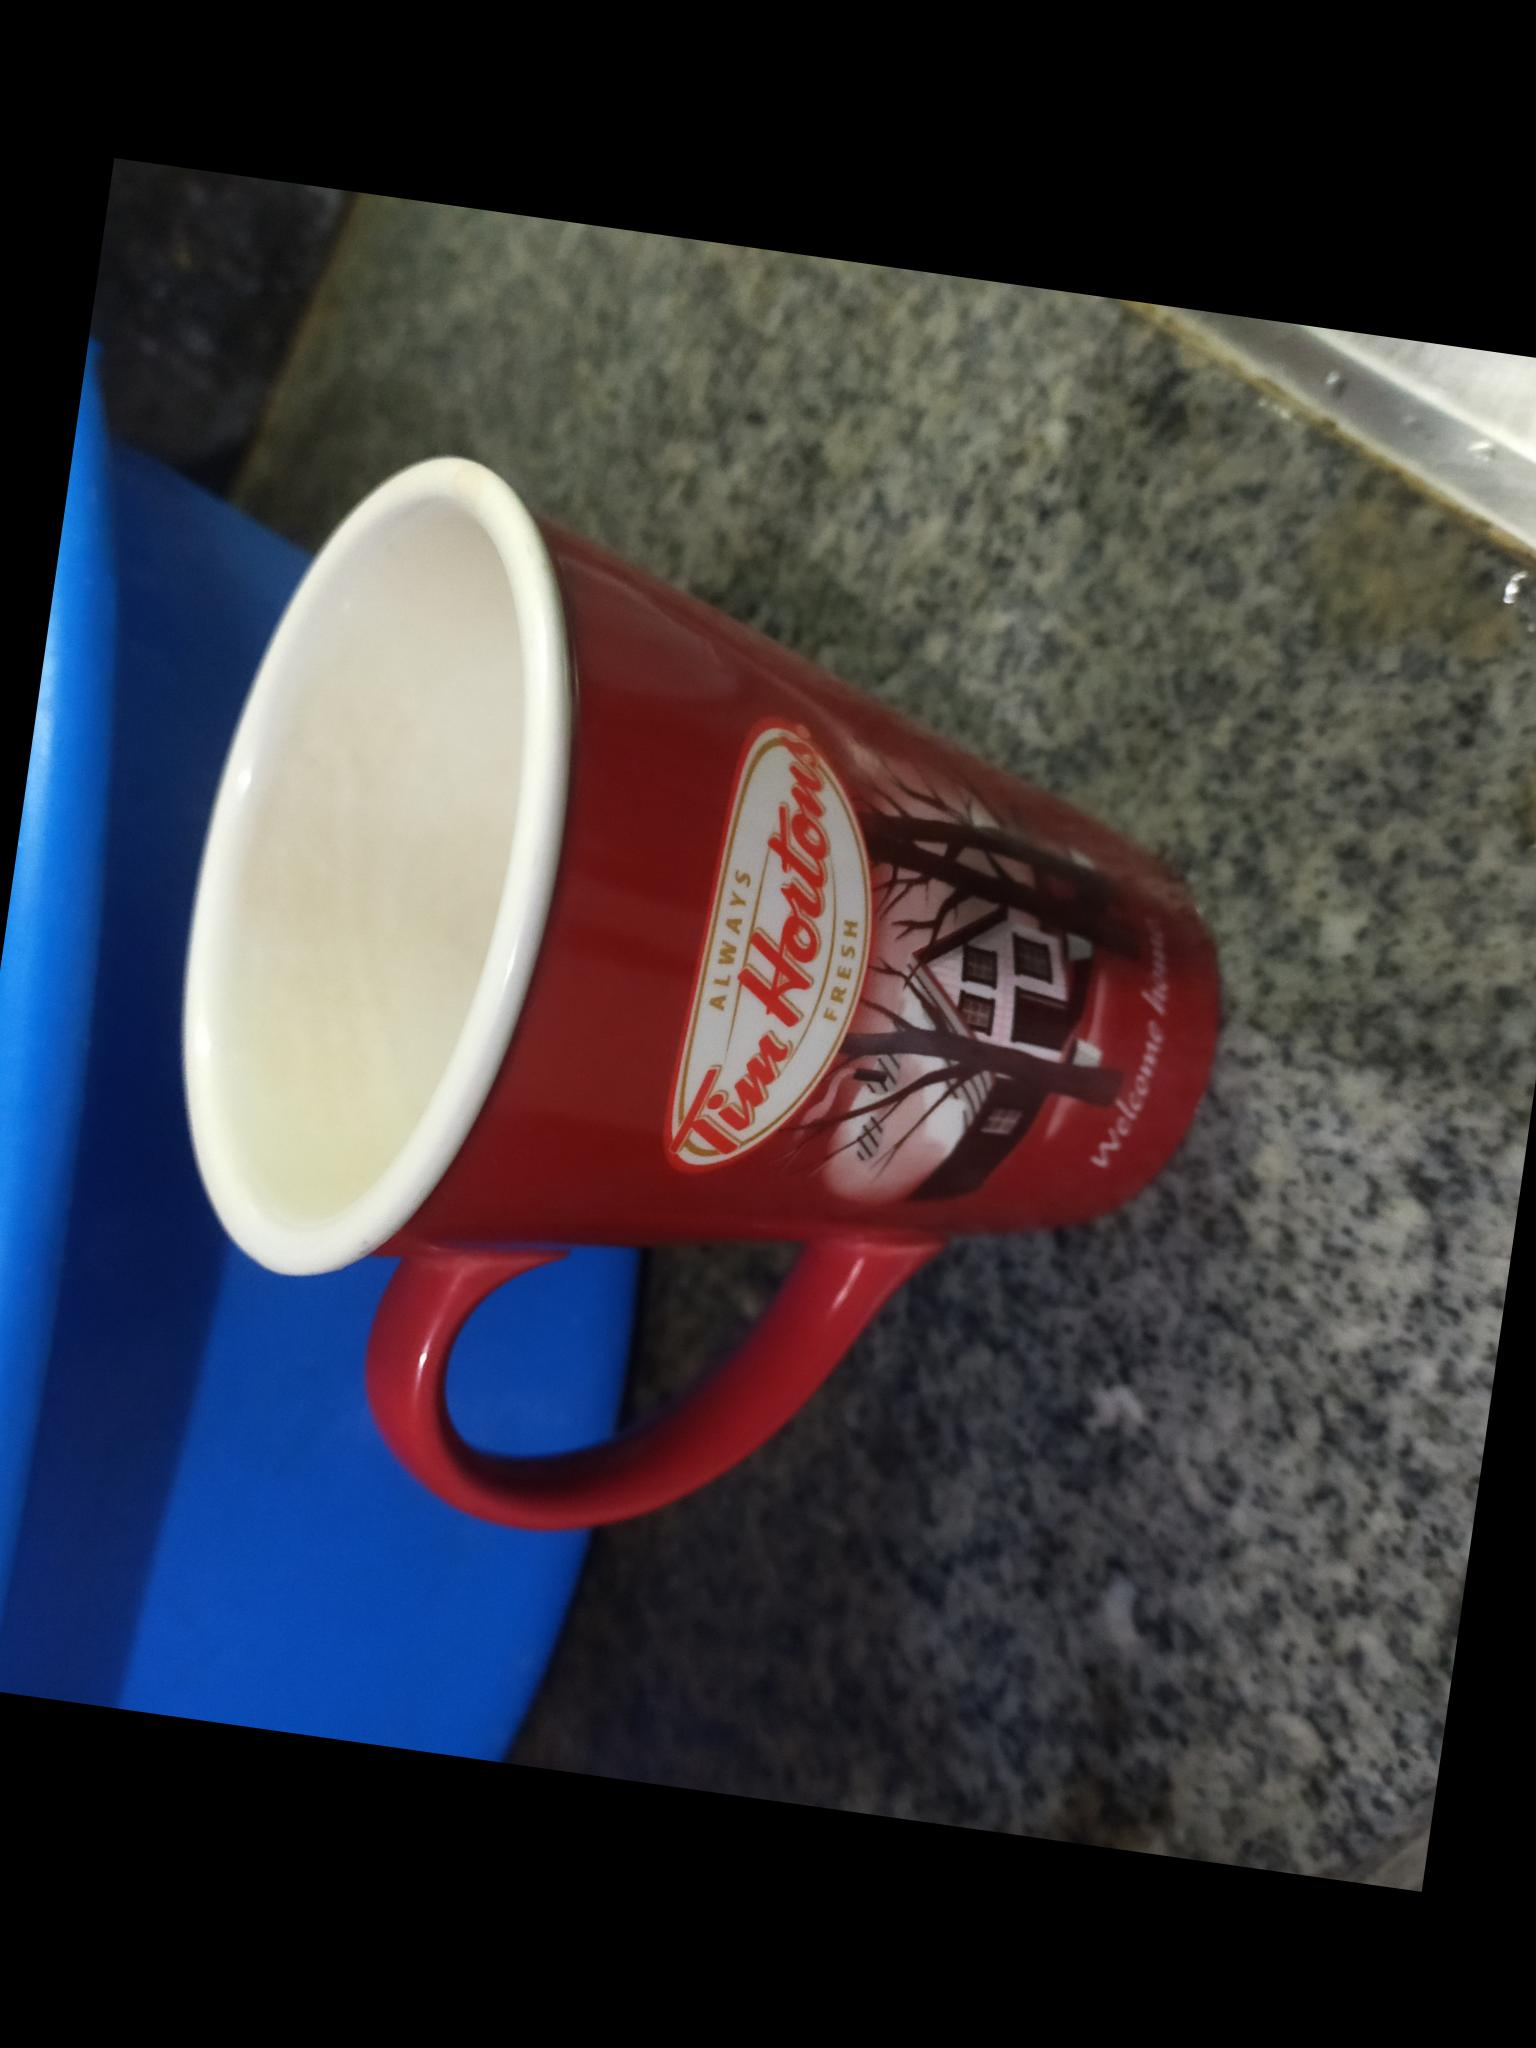Coffee Mug: (111, 429, 1284, 1611)
